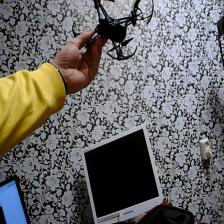drone: (66, 0, 158, 64)
